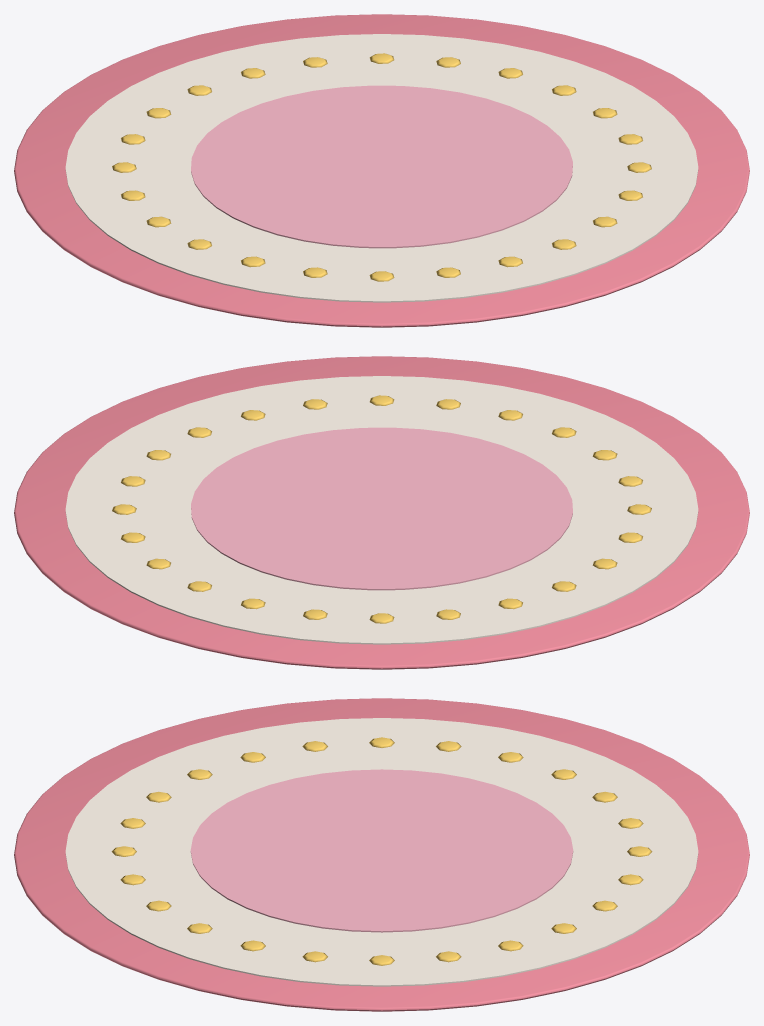
Rendered from rug.glb.
3 renders of one model, top to bottom at view 1: azimuth 30°, elevation 25°; view 2: azimuth 150°, elevation 25°; view 3: azimuth 270°, elevation 25°, orthographic.
Visible parts, largest first — view 1: Rug; view 2: Rug; view 3: Rug.
Part boxes in pixels (box(x1,y1,x2,y2)): Rug: box(14, 14, 749, 327); Rug: box(14, 356, 749, 669); Rug: box(14, 698, 749, 1011).
Size of the model in its own units: 2 by 0.023 by 2.
